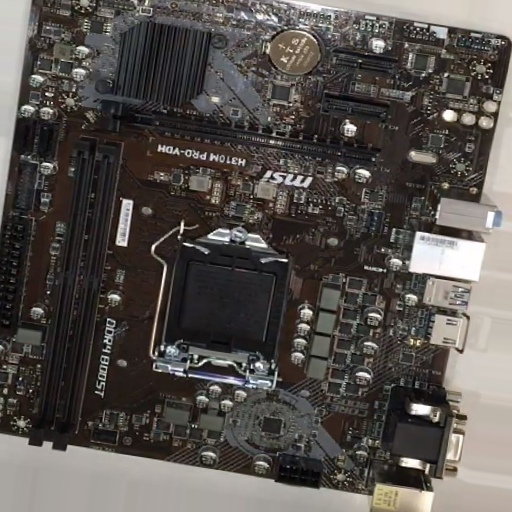CPU: (156, 227, 295, 385)
GPU: (101, 99, 376, 166)
MOTHERBOARD: (1, 3, 511, 498)
RAM: (25, 137, 124, 451)
